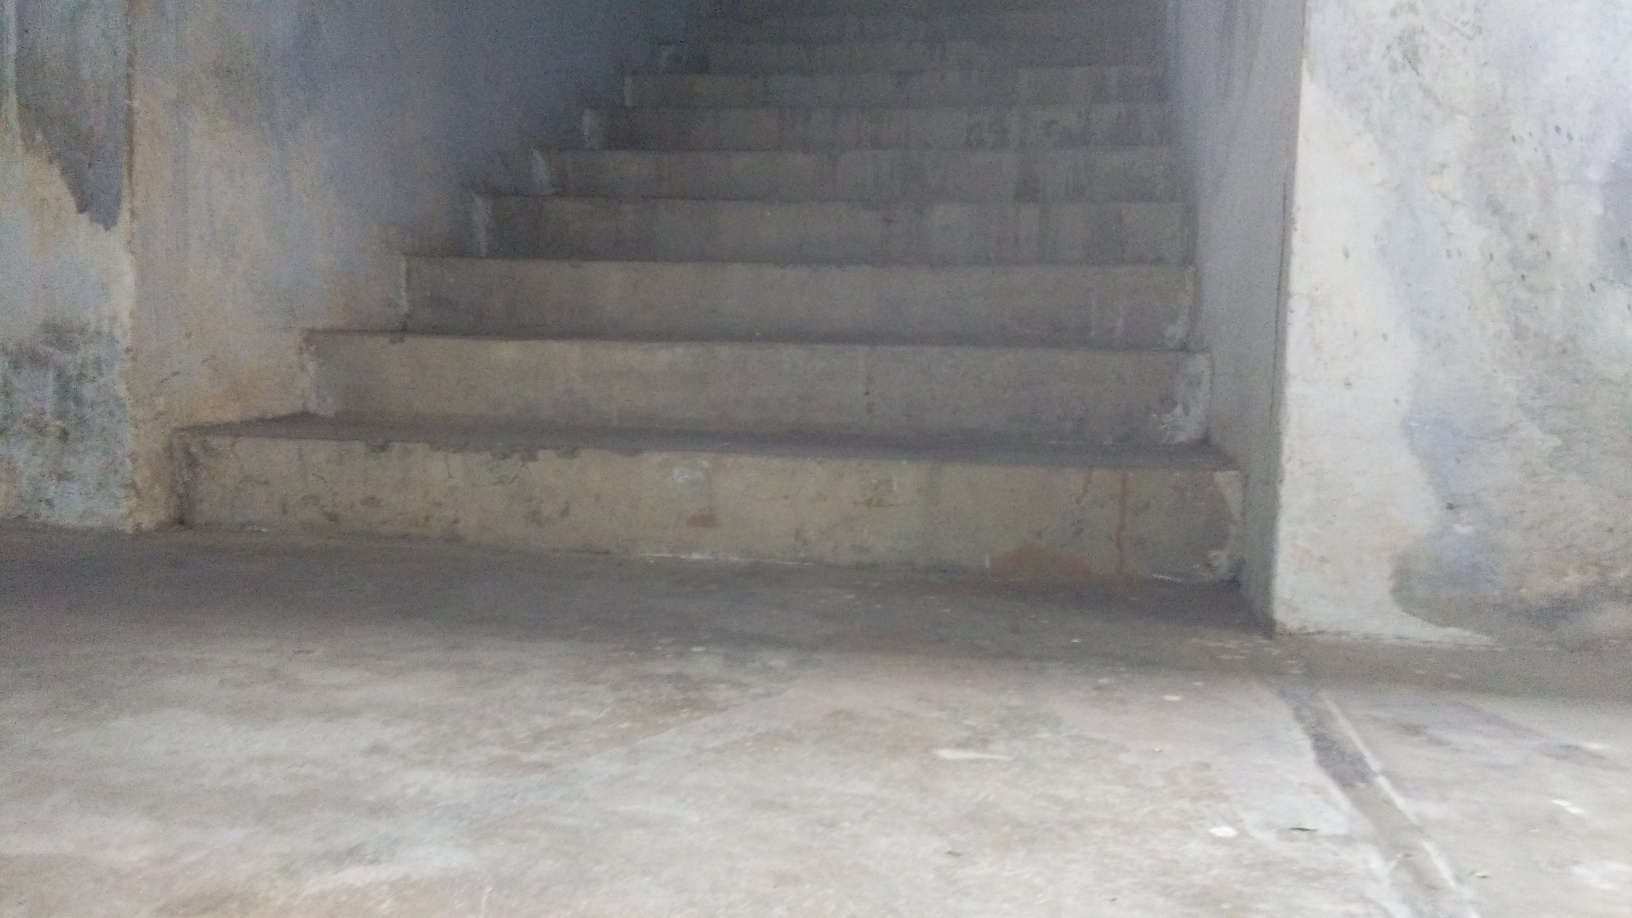stairs_up: (159, 39, 1191, 573)
